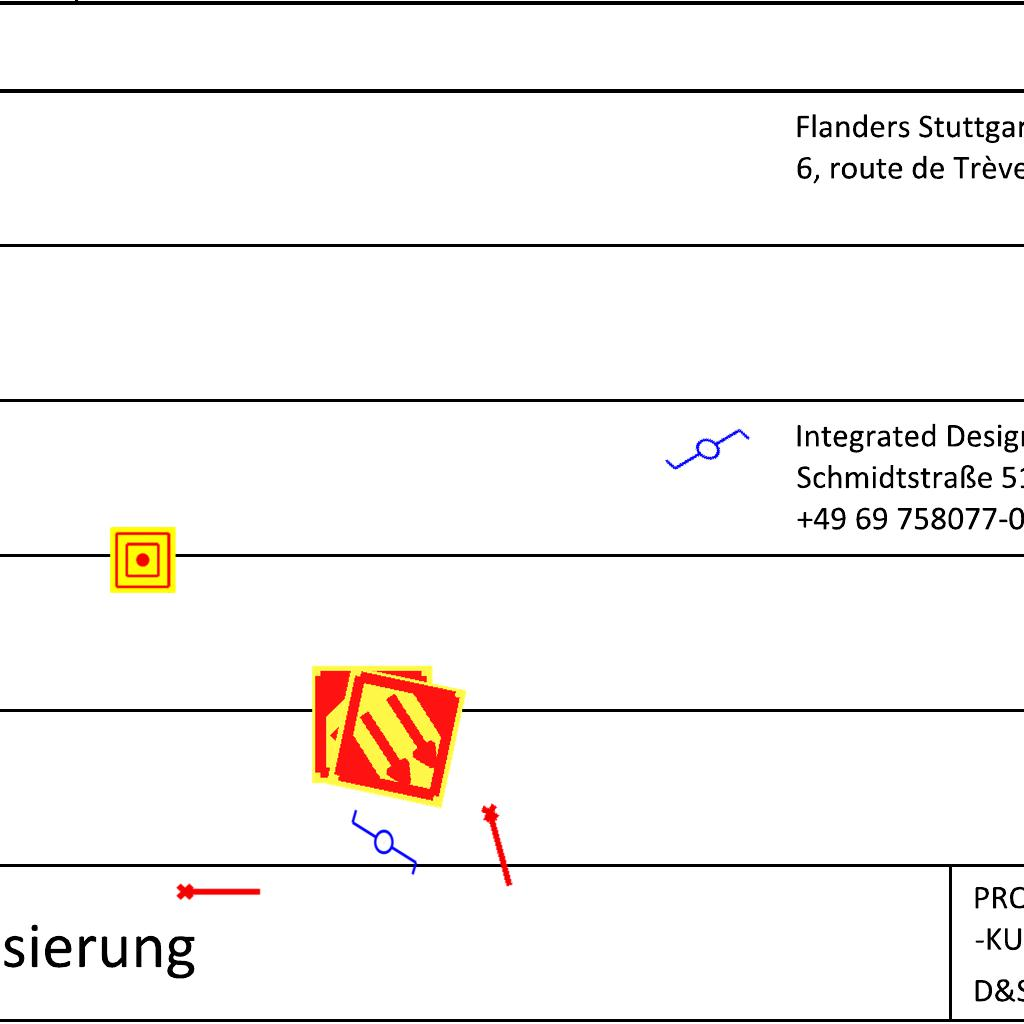ASR_Ansaugoeffnung: (477, 800, 523, 891), (175, 879, 263, 902)
ASR_Ansaugrauchmelder: (322, 663, 471, 812), (310, 662, 435, 787)
NAM-Nichtautomatischer_Melder: (110, 527, 176, 593)
Wechselschalter: (659, 402, 763, 502), (349, 799, 421, 877)
